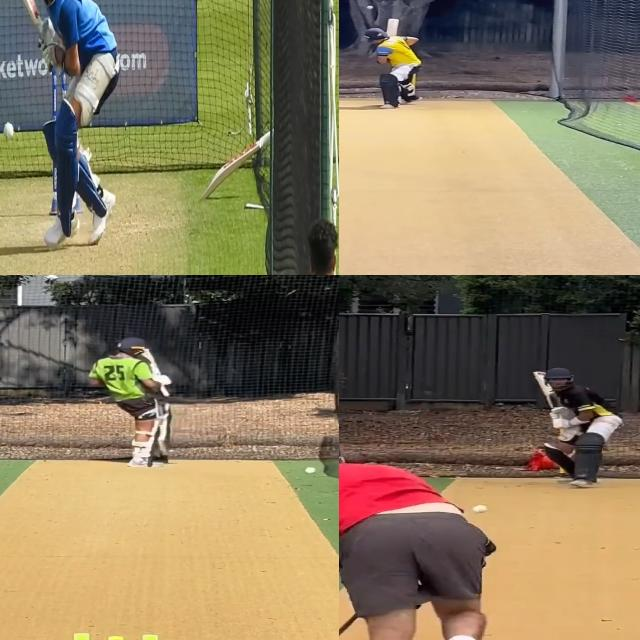Cricket ball: (0, 119, 14, 148), (470, 504, 489, 515), (366, 6, 374, 10)
